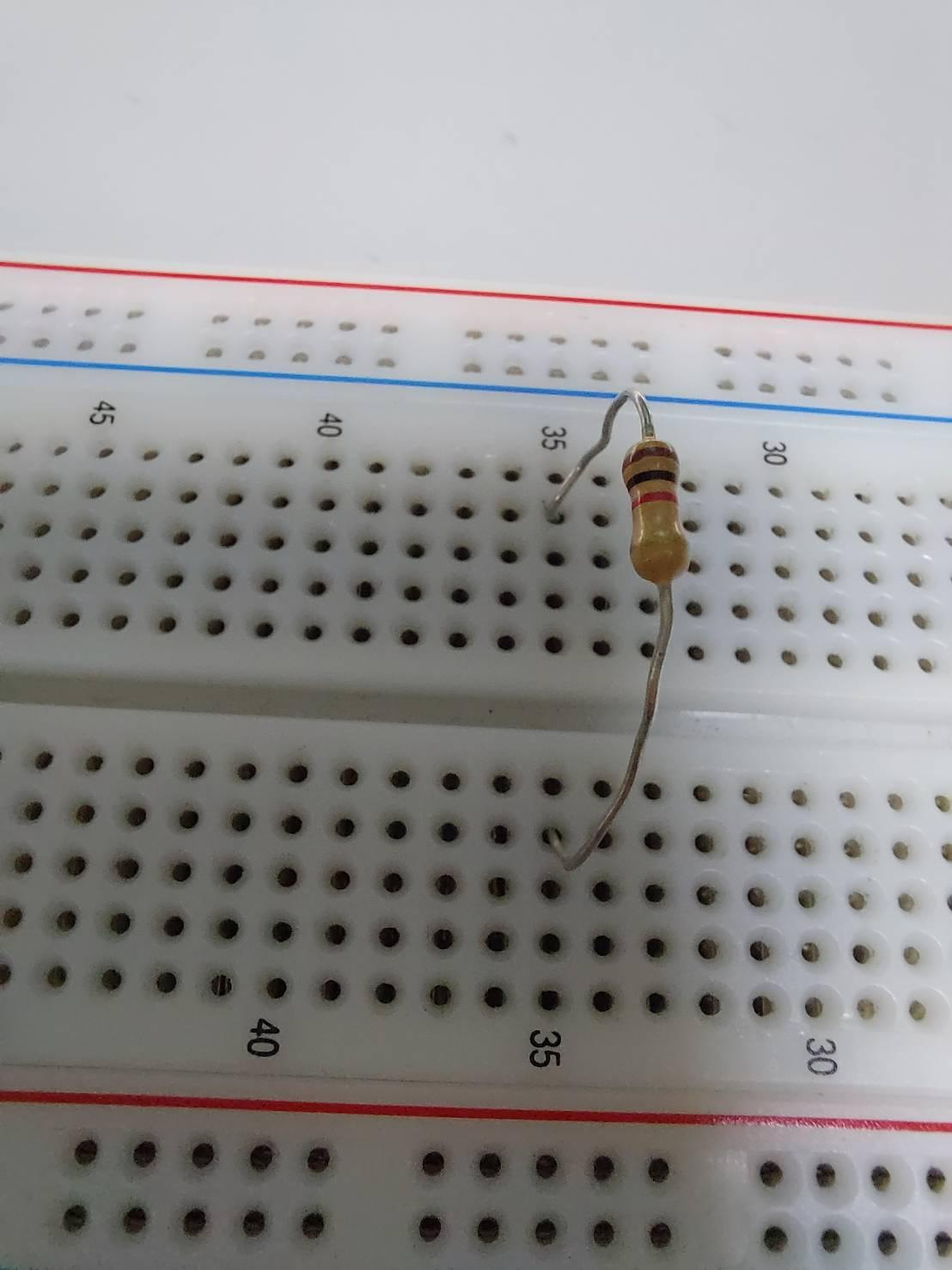resistor: (624, 437, 689, 587)
